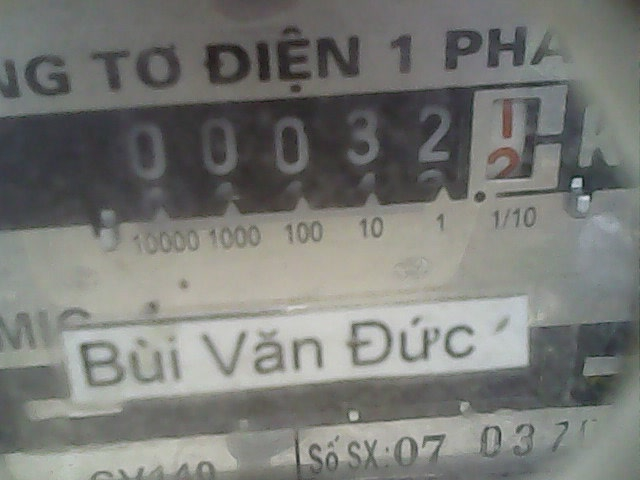phy_plate: (101, 80, 572, 209)
